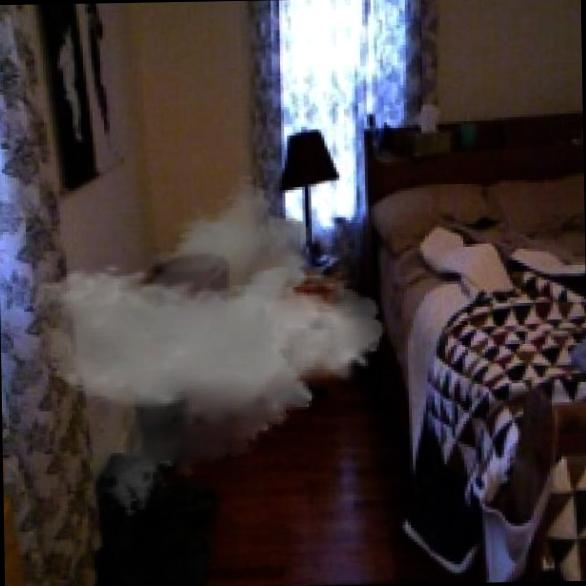smoke: (31, 171, 388, 521)
